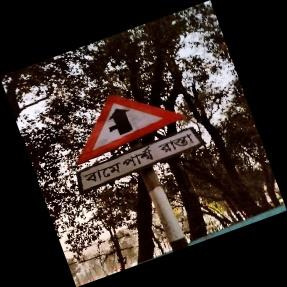Side-road-left: (75, 95, 200, 193)
